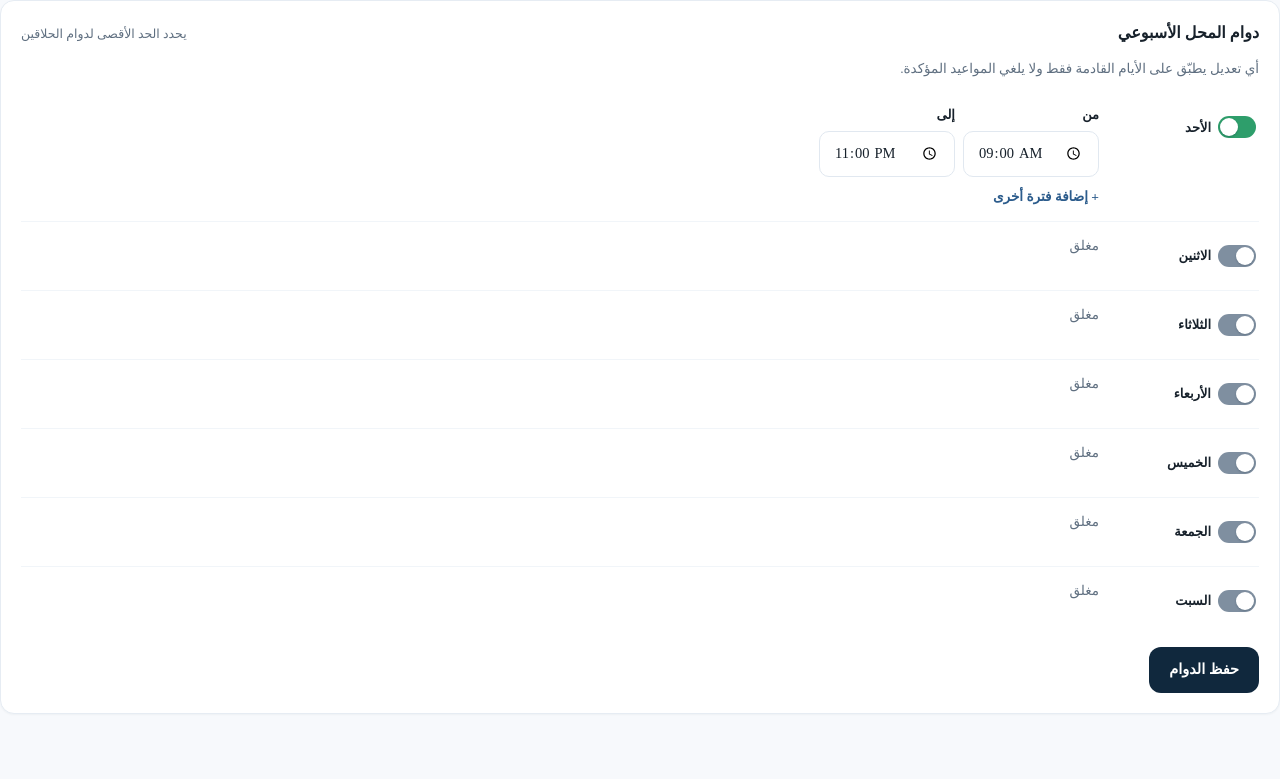
Scenario: OpeningHoursCard › saves the whole week with the version read, sending only open days
Expected: the text "مغلق" next to "السبت" is shown, [1070,583,1099,598]
Click the switch named "مفتوح يوم السبت" next to "السبت". click: (1237, 601)
box: [1215,579,1259,623]
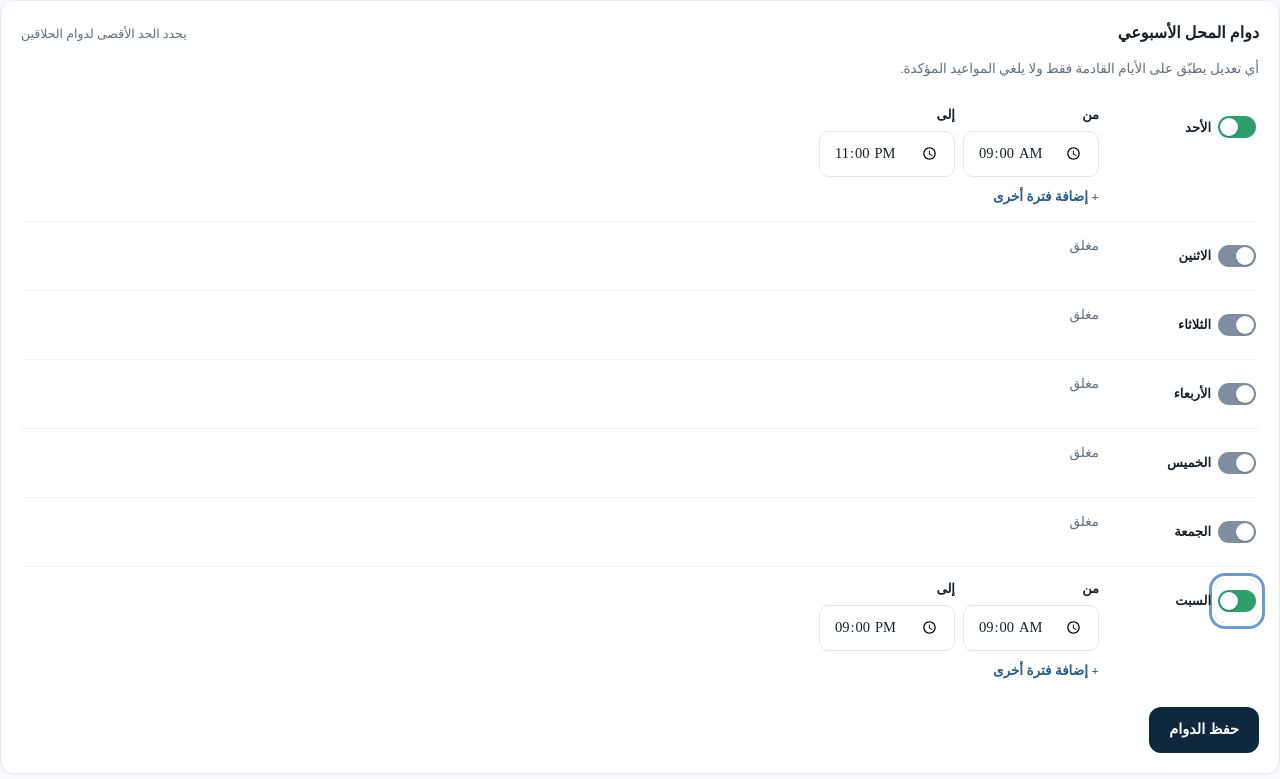
Replace the text in the time field labelled "إلى" in the row of "السبت" with "01:00". click: (887, 628)
box: [819,605,955,651]
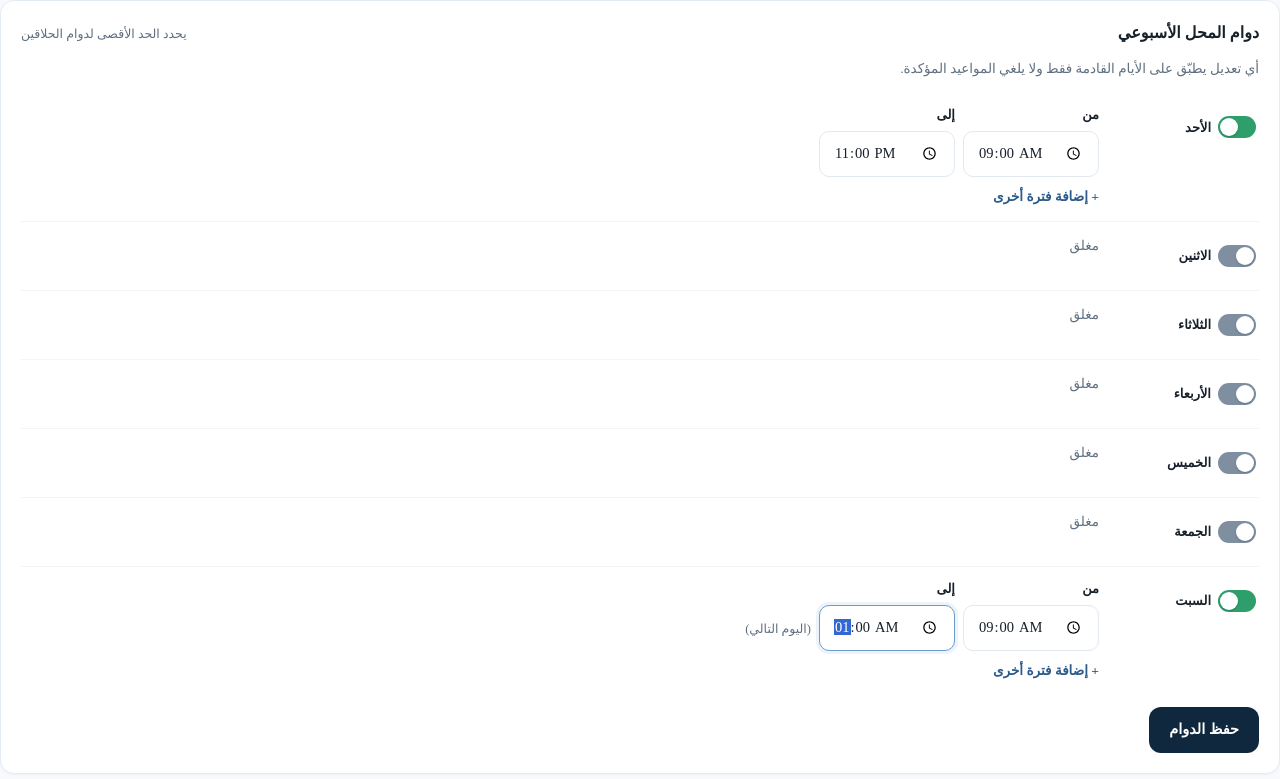
Result: the text "(اليوم التالي)" is shown at [745,622,811,636]
Click the button "حفظ الدوام". click: (1204, 730)
box: [1149,707,1259,753]
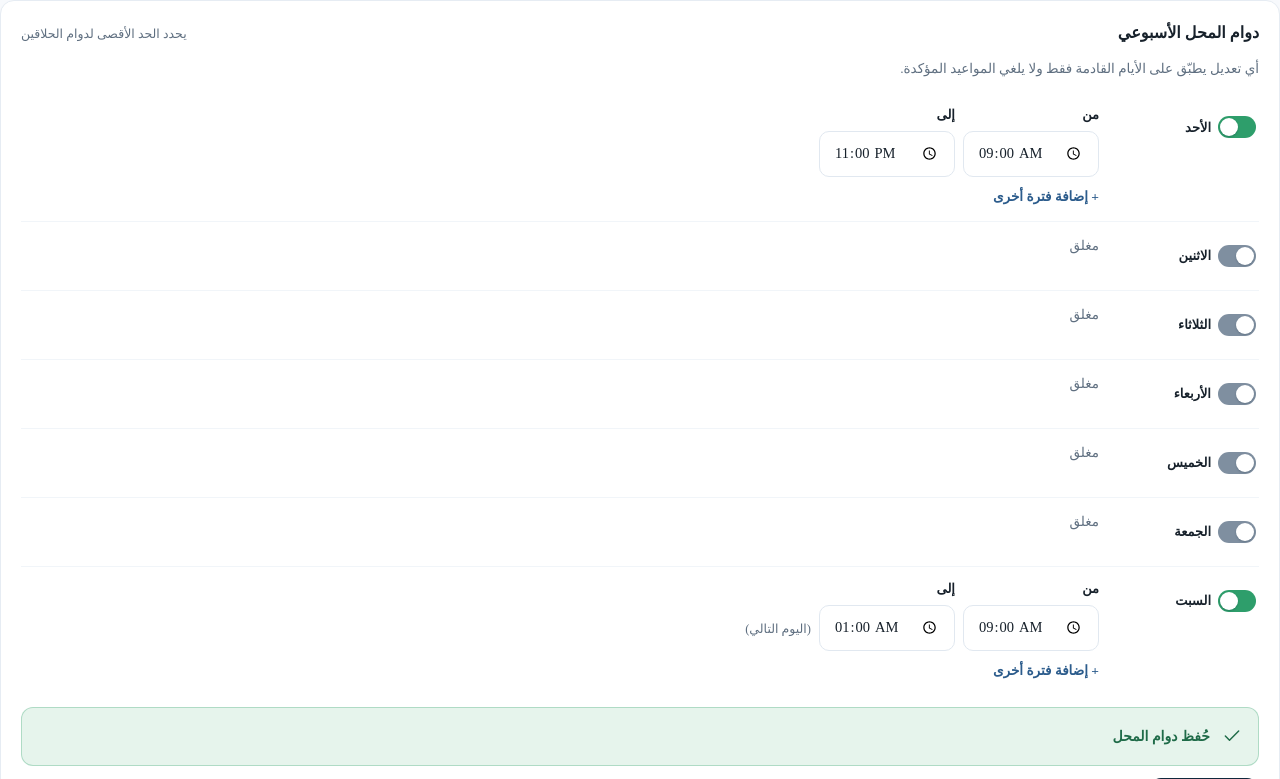
Result: the text "حُفظ دوام المحل" is shown at [1112,729,1210,744]
